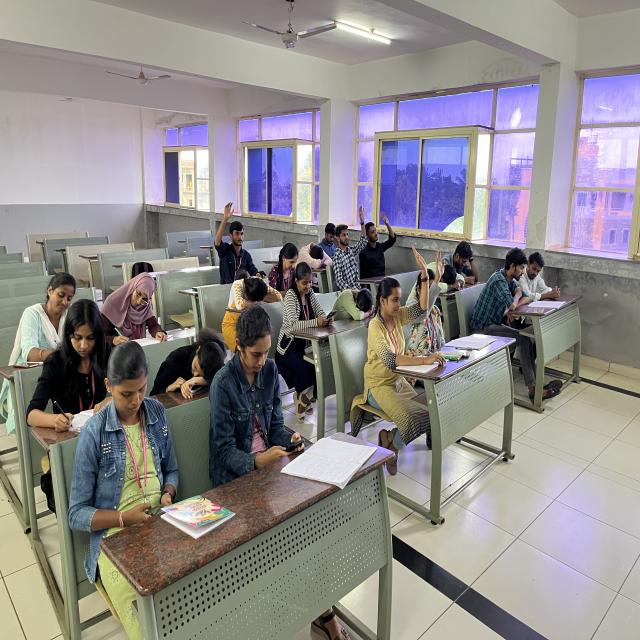Hand Rising: (366, 242, 434, 397), (406, 236, 460, 364), (212, 197, 255, 277), (359, 190, 395, 276), (336, 200, 368, 278)
Reading: (477, 238, 538, 336), (515, 238, 563, 323)
Sleeping: (153, 334, 233, 406), (221, 272, 284, 322), (327, 282, 381, 325), (293, 239, 334, 274)
Using Phone: (62, 338, 194, 523), (216, 299, 325, 468), (280, 261, 340, 368)
Writing: (32, 297, 112, 431), (98, 266, 173, 343), (13, 270, 78, 355)
